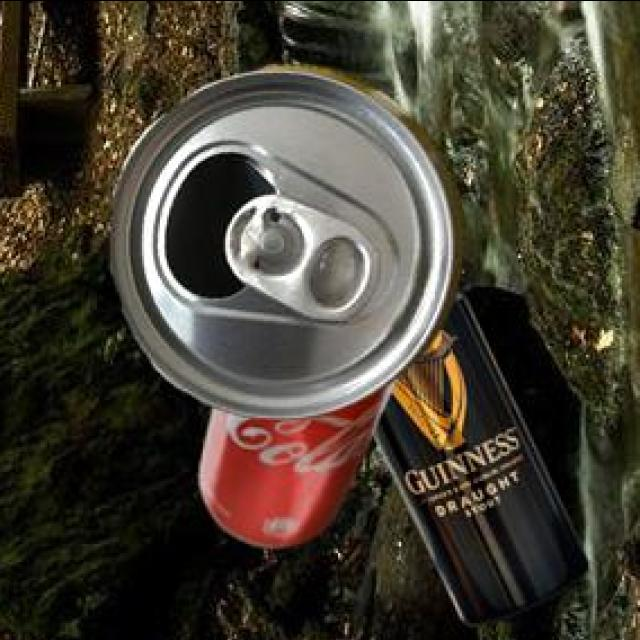logam: (107, 66, 461, 423), (368, 294, 585, 628), (197, 383, 391, 549)
